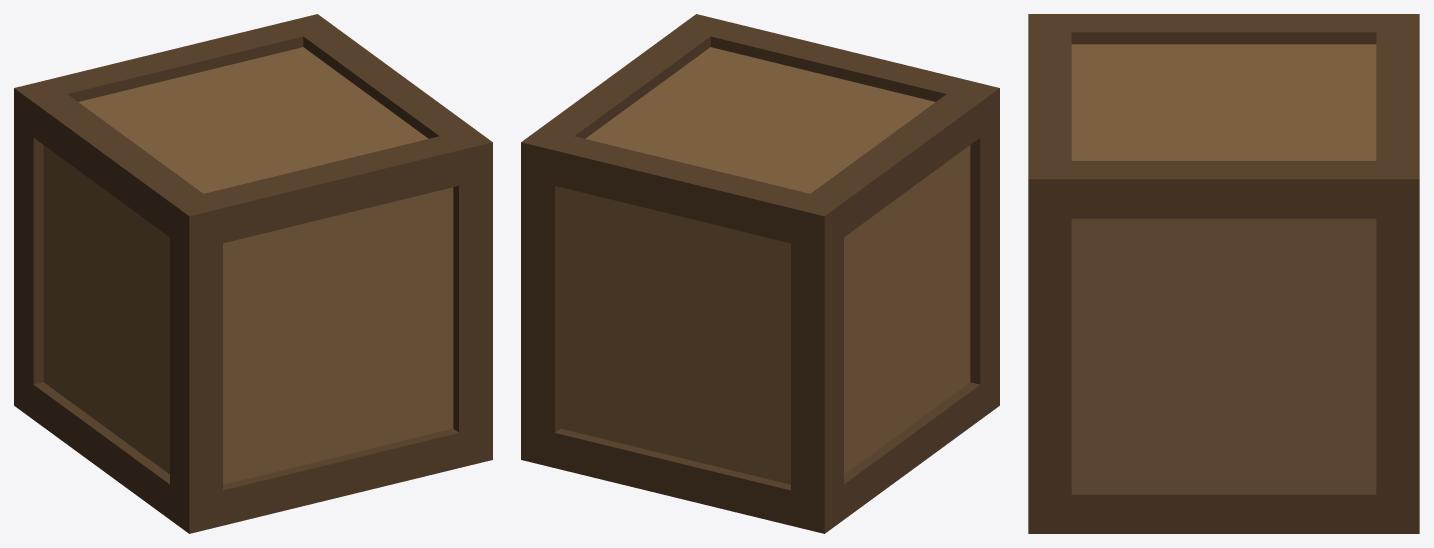
Rendered from crate.glb.
The picture shows the model from 3 angles, left to right: view 1: azimuth 30°, elevation 25°; view 2: azimuth 150°, elevation 25°; view 3: azimuth 270°, elevation 25°; orthographic projection. The views are drawn at different scales.
Visible parts, largest first — view 1: crate; view 2: crate; view 3: crate.
Part boxes in pixels (<box>): crate: <box>14,14,492,533</box>; crate: <box>521,14,999,533</box>; crate: <box>1028,14,1419,533</box>.
Bounding box in the file's own units: 0.9 × 0.9 × 0.9.
